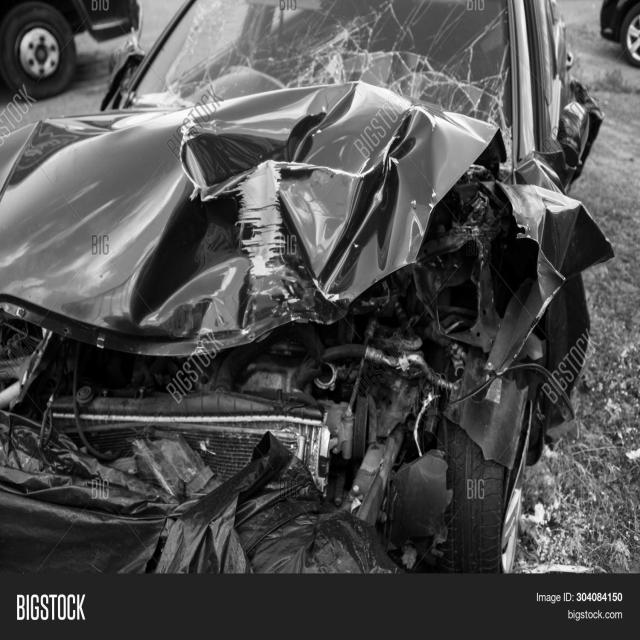crush: (0, 0, 614, 573)
